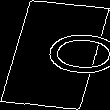O_W: (7, 29, 103, 81)
